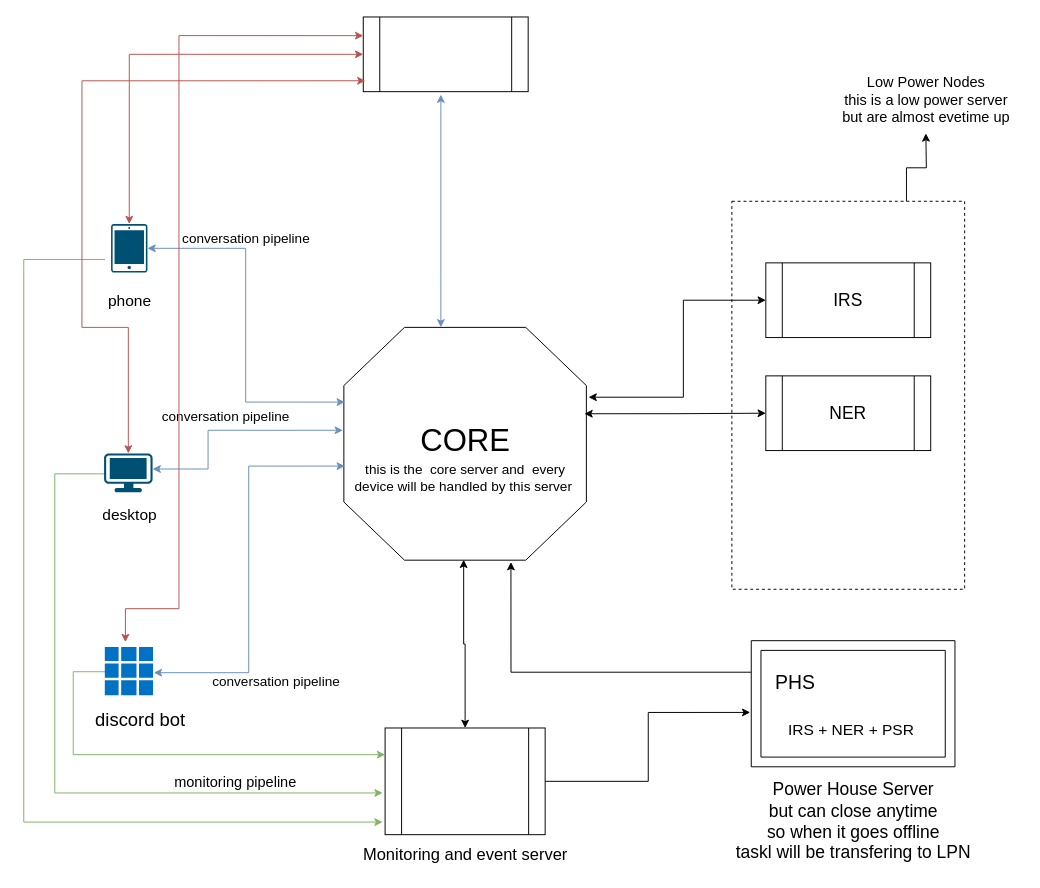
This 1040x888 diagram has some shape labels left out. The shapes that lost their labels are listed below. From the top down, each one's centre as x and y in pixels, then its label:
(x=445, y=54): PSC
(x=464, y=781): MES
